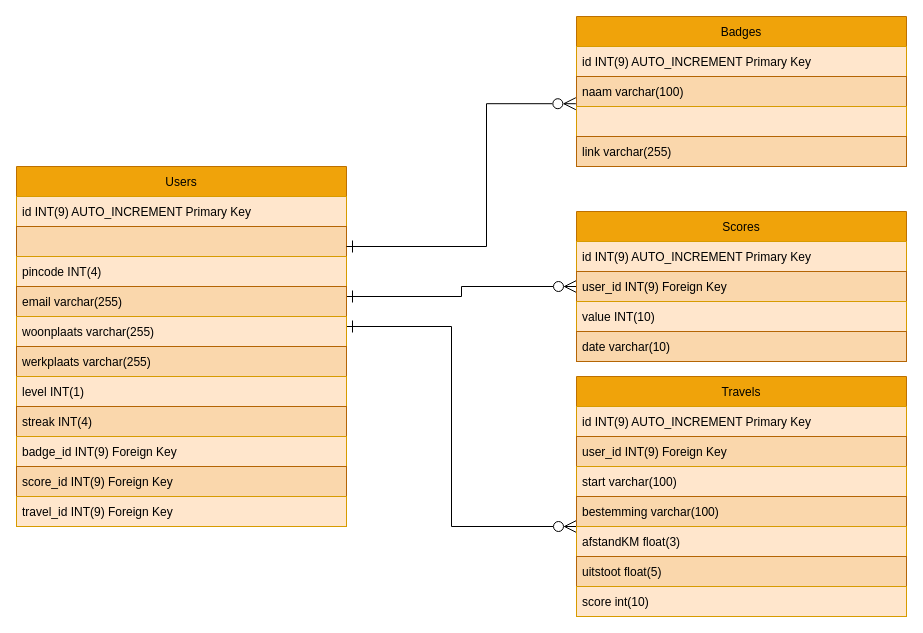
The diagram is 923 pixels wide and 633 high, and some of its shapes have lost their labels. Here are the shapes that lost their labels. From the top down, the centre of each, then its label:
the point at 741,121: desc varchar(500)
the point at 181,241: naam varchar(255)
